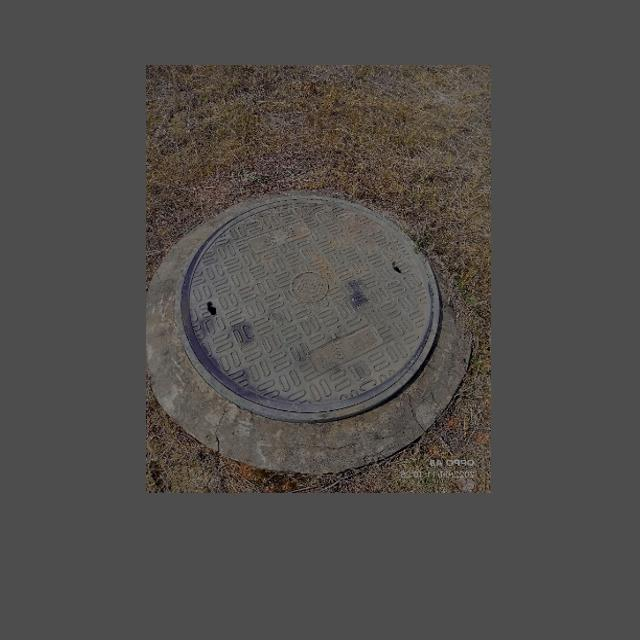good: (174, 196, 442, 422)
